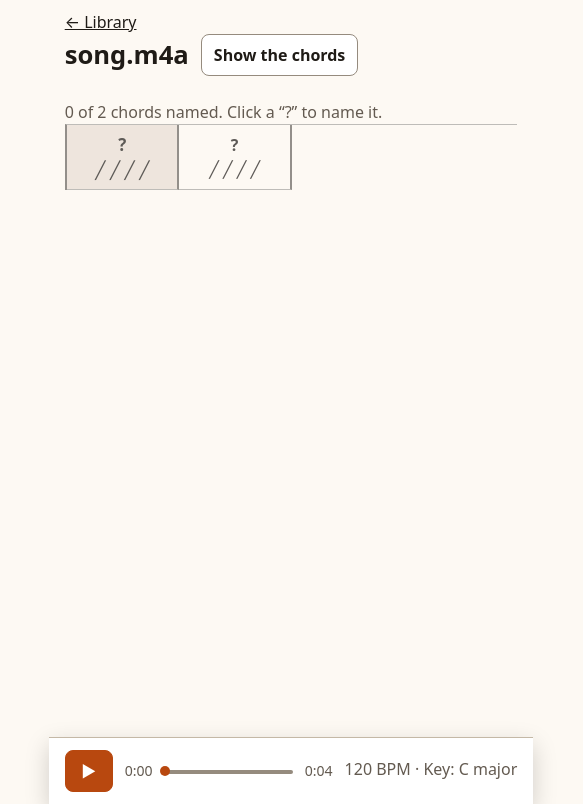
Test case: the player can give up and switch to the chart
Expected: the text "?" is shown 2 times, [118,132,126,157]; [231,133,238,157]
What coordinates should you click on to do the following:
click the button "Show the chords"
I would click on:
 (280, 55)
Its box is [201,34,358,76].
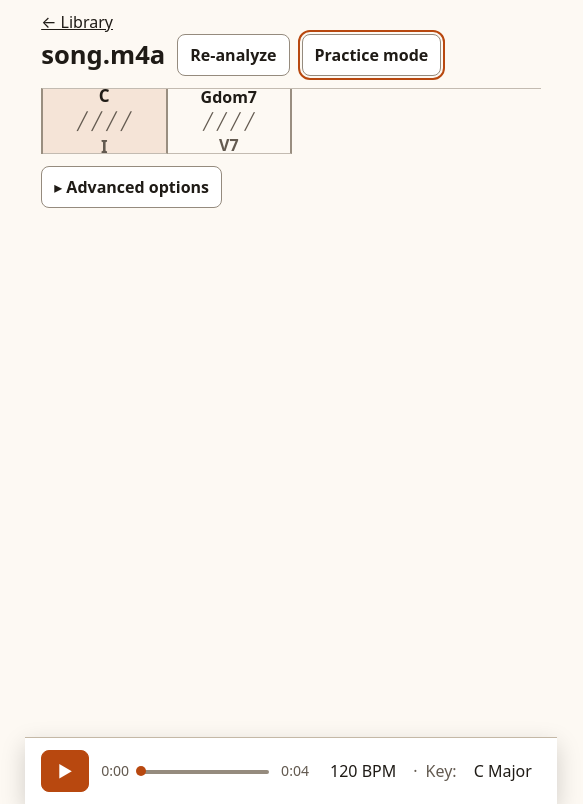
Expected: the text "Gdom7" is shown, [200,89,257,109]
Expected: the text "?" is gone
